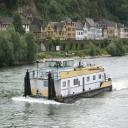tugboat: (24, 54, 114, 108)
